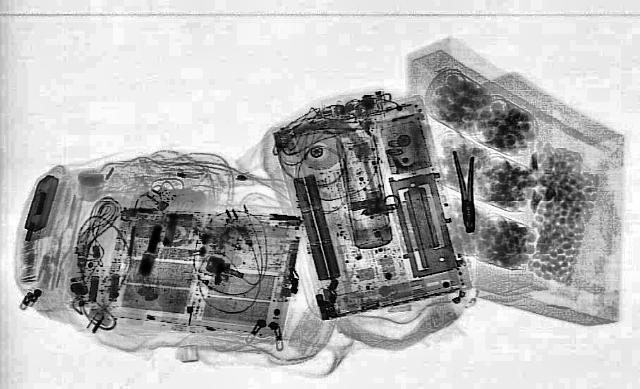Pliers: (450, 150, 482, 234)
